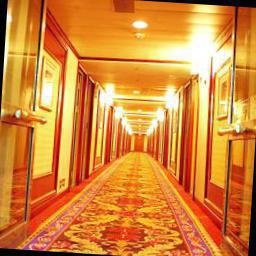Puerta: (0, 0, 49, 249), (11, 41, 66, 226), (218, 9, 256, 256), (203, 51, 238, 219), (68, 70, 89, 192), (177, 84, 197, 192)
